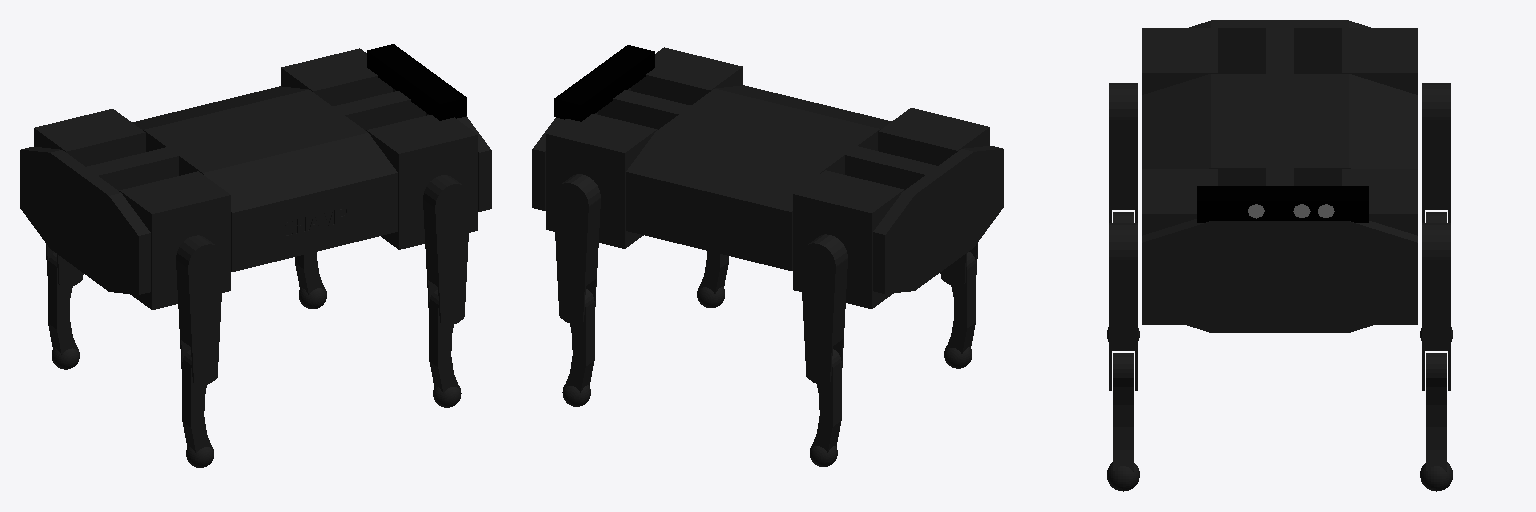
--- Facts derived from the render (not from the file) ---
Views: 3 orthographic renders of the robot side by side, from view 1: azimuth 30°, elevation 25°; view 2: azimuth 150°, elevation 25°; view 3: azimuth 270°, elevation 25°.
Robot: champ — 30 links, 29 joints (12 revolute, 17 fixed); root link base_link; default pose: every joint at zero.
Visible links, largest first — view 1: base_link, rh_hip_link, rf_hip_link, rh_upper_leg_link, rf_upper_leg_link, lh_hip_link, lf_hip_link, camera_link, rf_lower_leg_link, rh_lower_leg_link, lh_lower_leg_link, lf_lower_leg_link (+1 smaller); view 2: base_link, lh_hip_link, lf_hip_link, lh_upper_leg_link, lf_upper_leg_link, rh_hip_link, rf_hip_link, camera_link, lf_lower_leg_link, lh_lower_leg_link, rh_lower_leg_link, rf_lower_leg_link (+1 smaller); view 3: base_link, camera_link, lh_hip_link, rh_hip_link, lf_upper_leg_link, rf_upper_leg_link, rf_hip_link, lh_upper_leg_link, rh_upper_leg_link, lf_hip_link, lf_lower_leg_link, rf_lower_leg_link.
Link boxes in pixels (x1,y1,x2,y2): base_link: (20, 86, 491, 294); rh_hip_link: (119, 171, 230, 309); rf_hip_link: (366, 115, 477, 249); rh_upper_leg_link: (176, 235, 222, 385); rf_upper_leg_link: (423, 175, 469, 325); lh_hip_link: (34, 109, 145, 166); lf_hip_link: (281, 48, 392, 105); camera_link: (367, 44, 466, 120); rf_lower_leg_link: (429, 290, 461, 407); rh_lower_leg_link: (182, 350, 213, 467); lh_lower_leg_link: (48, 252, 79, 369); lf_lower_leg_link: (295, 252, 326, 308); base_link: (532, 85, 1003, 293); lh_hip_link: (793, 170, 904, 308); lf_hip_link: (546, 114, 657, 248); lh_upper_leg_link: (801, 234, 847, 384); lf_upper_leg_link: (554, 174, 600, 324); rh_hip_link: (878, 108, 989, 165); rf_hip_link: (631, 47, 742, 104); camera_link: (554, 45, 654, 121); lf_lower_leg_link: (562, 289, 594, 406); lh_lower_leg_link: (810, 349, 841, 466); rh_lower_leg_link: (944, 252, 975, 368); rf_lower_leg_link: (697, 251, 728, 307); base_link: (1142, 20, 1417, 332); camera_link: (1197, 186, 1368, 222); lh_hip_link: (1342, 28, 1417, 94); rh_hip_link: (1142, 28, 1217, 94); lf_upper_leg_link: (1422, 223, 1450, 390); rf_upper_leg_link: (1109, 223, 1137, 390); rf_hip_link: (1142, 169, 1217, 324); lh_upper_leg_link: (1422, 83, 1450, 222); rh_upper_leg_link: (1109, 83, 1137, 222); lf_hip_link: (1342, 169, 1417, 324); lf_lower_leg_link: (1420, 353, 1452, 491); rf_lower_leg_link: (1107, 353, 1139, 491).
Size in the robot's own frame: 0.5 by 0.365 by 0.3696 metres.
Meshes: 8 distinct files referenced, 14 mesh visuals loaded (4 binary STL, 1 Collada DAE); not drawn: 3 (reference not matched to a file when rendering).

URDF robot description (champ):
<?xml version="1.0" encoding="utf-8"?>
<!-- =================================================================================== -->
<!-- |    This document was autogenerated by xacro from champ.urdf.xacro               | -->
<!-- |    EDITING THIS FILE BY HAND IS NOT RECOMMENDED                                 | -->
<!-- =================================================================================== -->
<robot name="champ">
  <material name="black">
    <color rgba="0.15 0.15 0.15 1.0"/>
  </material>
  <link name="base_link">
    <collision>
      <origin rpy="0 0 0" xyz="0 0 0"/>
      <geometry>
        <mesh filename="package://champ_description/meshes/base.stl" scale="0.001 0.001 0.001"/>
      </geometry>
    </collision>
    <visual>
      <origin rpy="0 0 0" xyz="0 0 0"/>
      <geometry>
        <mesh filename="package://champ_description/meshes/base.stl" scale="0.001 0.001 0.001"/>
      </geometry>
      <material name="black"/>
    </visual>
  </link>
  <link name="base_inertia">
    <inertial>
      <origin xyz="0 0 0"/>
      <mass value="2.0"/>
      <inertia ixx="0.0168333333333" ixy="0.0" ixz="0.0" iyy="0.0444833333333" iyz="0.0" izz="0.0556833333333"/>
    </inertial>
  </link>
  <joint name="base_link_to_base_inertia" type="fixed">
    <parent link="base_link"/>
    <child link="base_inertia"/>
    <origin rpy="0 0 0" xyz="0 0 0"/>
  </joint>
  <gazebo reference="base_link">
    <material>Gazebo/FlatBlack</material>
  </gazebo>
  <!-- 
    <xacro:hokuyo_utm30lx 
        name="hokuyo" 
        parent="base_link" 
        ros_topic="scan" 
        update_rate="30" 
        ray_count="1040" 
        min_angle="130" 
        max_angle="-130" >
        <origin xyz="0.0 0.0 ${base_z_length / 2 + 0.04}" rpy="0 0 0"/>
    </xacro:hokuyo_utm30lx> -->
  <gazebo reference="hokuyo_frame">
    <material>Gazebo/FlatBlack</material>
  </gazebo>
  <joint name="camera_joint" type="fixed">
    <origin rpy="0 0 0" xyz="0.25 0.0 0.075"/>
    <parent link="base_link"/>
    <child link="camera_link"/>
  </joint>
  <link name="camera_link">
    <inertial>
      <mass value="0.200"/>
      <origin rpy="0 0 0" xyz="0 0 0"/>
      <inertia ixx="5.8083e-4" ixy="0" ixz="0" iyy="3.0833e-5" iyz="0" izz="5.9083e-4"/>
    </inertial>
    <visual>
      <origin rpy="0 0 0" xyz="0 0 0"/>
      <geometry>
        <mesh filename="package://hector_sensors_description/meshes/asus_camera/asus_camera_simple.dae"/>
      </geometry>
    </visual>
    <!--        
       <collision>
          <origin xyz="0 0 0" rpy="0 0 0" />
          <geometry>
            <box size="0.035 0.185 0.025"/>
          </geometry>
        </collision>
        -->
    <collision>
      <origin rpy="0 0 0" xyz="0 0 0"/>
      <geometry>
        <mesh filename="package://hector_sensors_description/meshes/asus_camera/asus_camera_simple.dae"/>
      </geometry>
    </collision>
  </link>
  <joint name="camera_depth_joint" type="fixed">
    <origin rpy="0 0 0" xyz="0.0 0.049 0.0"/>
    <parent link="camera_link"/>
    <child link="camera_depth_frame"/>
  </joint>
  <link name="camera_depth_frame"/>
  <joint name="camera_depth_optical_joint" type="fixed">
    <origin rpy="-1.57079632679 0.0 -1.57079632679" xyz="0 0 0"/>
    <parent link="camera_depth_frame"/>
    <child link="camera_depth_optical_frame"/>
  </joint>
  <link name="camera_depth_optical_frame"/>
  <joint name="camera_rgb_joint" type="fixed">
    <origin rpy="0 0 0" xyz="0.0 0.022 0.0"/>
    <parent link="camera_link"/>
    <child link="camera_rgb_frame"/>
  </joint>
  <link name="camera_rgb_frame"/>
  <joint name="camera_rgb_optical_joint" type="fixed">
    <origin rpy="-1.57079632679 0.0 -1.57079632679" xyz="0 0 0"/>
    <parent link="camera_rgb_frame"/>
    <child link="camera_rgb_optical_frame"/>
  </joint>
  <link name="camera_rgb_optical_frame"/>
  <!-- ASUS Xtion PRO camera for simulation -->
  <gazebo reference="camera_depth_frame">
    <sensor name="camera" type="depth">
      <update_rate>20</update_rate>
      <camera>
        <horizontal_fov>1.09606677025</horizontal_fov>
        <image>
          <format>R8G8B8</format>
          <width>640</width>
          <height>480</height>
        </image>
        <clip>
          <near>0.5</near>
          <far>9</far>
        </clip>
      </camera>
      <plugin filename="libgazebo_ros_openni_kinect.so" name="camera_camera_controller">
        <imageTopicName>camera/rgb/image_raw</imageTopicName>
        <cameraInfoTopicName>camera/rgb/camera_info</cameraInfoTopicName>
        <depthImageTopicName>camera/depth/image_raw</depthImageTopicName>
        <depthImageCameraInfoTopicName>camera/depth/camera_info</depthImageCameraInfoTopicName>
        <pointCloudTopicName>camera/depth/points</pointCloudTopicName>
        <frameName>camera_depth_optical_frame</frameName>
      </plugin>
    </sensor>
  </gazebo>
  <gazebo>
    <plugin filename="libhector_gazebo_ros_imu.so" name="imu_controller">
      <updateRate>50.0</updateRate>
      <bodyName>imu_link</bodyName>
      <topicName>imu/data</topicName>
      <accelDrift>0.005 0.005 0.005</accelDrift>
      <accelGaussianNoise>0.005 0.005 0.005</accelGaussianNoise>
      <rateDrift>0.005 0.005 0.005 </rateDrift>
      <rateGaussianNoise>0.005 0.005 0.005 </rateGaussianNoise>
      <headingDrift>0.005</headingDrift>
      <headingGaussianNoise>0.005</headingGaussianNoise>
    </plugin>
  </gazebo>
  <link name="imu_link">
    <inertial>
      <mass value="0.001"/>
      <origin rpy="0 0 0" xyz="0 0 0"/>
      <inertia ixx="1e-09" ixy="0.0" ixz="0.0" iyy="1e-09" iyz="0.0" izz="1e-09"/>
    </inertial>
  </link>
  <joint name="imu_joint" type="fixed">
    <parent link="base_link"/>
    <child link="imu_link"/>
  </joint>
  <!-- <xacro:include filename="$(find champ_arm_description)/urdf/champ_arm.urdf.xacro" />
    <xacro:champ_arm parent="base_link">
        <origin xyz="0.07 0.0 ${base_z_length / 2}" rpy="0 0 0"/>
    </xacro:champ_arm> -->
   --&gt;
    
  <joint name="velodyne_base_mount_joint" type="fixed">
    <origin rpy="0 0 0" xyz="0 0 0.065"/>
    <parent link="base_link"/>
    <child link="velodyne_base_link"/>
  </joint>
  <link name="velodyne_base_link">
    <inertial>
      <mass value="0.83"/>
      <origin xyz="0 0 0.03585"/>
      <inertia ixx="0.000908059425" ixy="0" ixz="0" iyy="0.000908059425" iyz="0" izz="0.0011049624"/>
    </inertial>
    <visual>
      <geometry>
        <mesh filename="package://velodyne_description/meshes/VLP16_base_1.dae"/>
      </geometry>
    </visual>
    <visual>
      <geometry>
        <mesh filename="package://velodyne_description/meshes/VLP16_base_2.dae"/>
      </geometry>
    </visual>
    <collision>
      <origin rpy="0 0 0" xyz="0 0 0.03585"/>
      <geometry>
        <cylinder length="0.0717" radius="0.0516"/>
      </geometry>
    </collision>
  </link>
  <joint name="velodyne_base_scan_joint" type="fixed">
    <origin rpy="0 0 0" xyz="0 0 0.0377"/>
    <parent link="velodyne_base_link"/>
    <child link="velodyne"/>
  </joint>
  <link name="velodyne">
    <inertial>
      <mass value="0.01"/>
      <origin xyz="0 0 0"/>
      <inertia ixx="1e-7" ixy="0" ixz="0" iyy="1e-7" iyz="0" izz="1e-7"/>
    </inertial>
    <visual>
      <origin xyz="0 0 -0.0377"/>
      <geometry>
        <mesh filename="package://velodyne_description/meshes/VLP16_scan.dae"/>
      </geometry>
    </visual>
  </link>
  <!-- Gazebo requires the velodyne_gazebo_plugins package -->
  <gazebo reference="velodyne">
    <sensor name="velodyne-VLP16" type="ray">
      <pose>0 0 0 0 0 0</pose>
      <visualize>false</visualize>
      <update_rate>10</update_rate>
      <ray>
        <scan>
          <horizontal>
            <samples>1024</samples>
            <resolution>1</resolution>
            <min_angle>-3.14159265359</min_angle>
            <max_angle>3.14159265359</max_angle>
          </horizontal>
          <vertical>
            <samples>16</samples>
            <resolution>1</resolution>
            <min_angle>-0.261799387799</min_angle>
            <max_angle> 0.261799387799</max_angle>
          </vertical>
        </scan>
        <range>
          <min>0.3</min>
          <max>101</max>
          <resolution>0.001</resolution>
        </range>
        <noise>
          <type>gaussian</type>
          <mean>0.0</mean>
          <stddev>0.0</stddev>
        </noise>
      </ray>
      <plugin filename="libgazebo_ros_velodyne_laser.so" name="gazebo_ros_laser_controller">
        <topicName>velodyne_points</topicName>
        <frameName>velodyne</frameName>
        <min_range>0.9</min_range>
        <max_range>100</max_range>
        <gaussianNoise>0.008</gaussianNoise>
      </plugin>
    </sensor>
  </gazebo>
  <link name="lf_hip_debug_link"/>
  <link name="lf_hip_link">
    <inertial>
      <mass value="0.25"/>
      <inertia ixx="0.000485416666667" ixy="0.0" ixz="0.0" iyy="0.000613416666667" iyz="0.0" izz="0.000394666666667"/>
    </inertial>
    <collision>
      <origin rpy="0 0 0" xyz="0 0 0"/>
      <geometry>
        <mesh filename="package://champ_description/meshes/hip.stl" scale="0.001 0.001 0.001"/>
      </geometry>
    </collision>
    <visual>
      <origin rpy="0 0 0" xyz="0 0 0"/>
      <geometry>
        <mesh filename="package://champ_description/meshes/hip.stl" scale="0.001 0.001 0.001"/>
      </geometry>
      <material name="black"/>
    </visual>
  </link>
  <gazebo reference="lf_hip_link">
    <material>Gazebo/FlatBlack</material>
  </gazebo>
  <link name="lf_upper_leg_link">
    <inertial>
      <origin xyz="0 0 -0.0705"/>
      <mass value="0.125"/>
      <inertia ixx="0.0003873984375" ixy="0.0" ixz="0.0" iyy="0.000404065104167" iyz="0.0" izz="3.54166666667e-05"/>
    </inertial>
    <collision>
      <origin rpy="0 0 0" xyz="0 0 0"/>
      <geometry>
        <mesh filename="package://champ_description/meshes/upper_leg.stl" scale="0.001 0.001 0.001"/>
      </geometry>
    </collision>
    <visual>
      <origin rpy="0 0 0" xyz="0 0 0"/>
      <geometry>
        <mesh filename="package://champ_description/meshes/upper_leg.stl" scale="0.001 0.001 0.001"/>
      </geometry>
      <material name="black"/>
    </visual>
  </link>
  <gazebo reference="lf_upper_leg_link">
    <material>Gazebo/FlatBlack</material>
  </gazebo>
  <link name="lf_lower_leg_link">
    <inertial>
      <origin xyz="0 0 -0.063"/>
      <mass value="0.125"/>
      <inertia ixx="0.000258541666667" ixy="0.0" ixz="0.0" iyy="0.00026934375" iyz="0.0" izz="2.08854166667e-05"/>
    </inertial>
    <collision>
      <origin rpy="0 0 0" xyz="0 0 0"/>
      <geometry>
        <mesh filename="package://champ_description/meshes/lower_leg.stl" scale="0.001 0.001 0.001"/>
      </geometry>
    </collision>
    <visual>
      <origin rpy="0 0 0" xyz="0 0 0"/>
      <geometry>
        <mesh filename="package://champ_description/meshes/lower_leg.stl" scale="0.001 0.001 0.001"/>
      </geometry>
      <material name="black"/>
    </visual>
  </link>
  <gazebo reference="lf_lower_leg_link">
    <kp>1000000.0</kp>
    <kd>1.0</kd>
    <mu1>0.8</mu1>
    <mu2>0.8</mu2>
    <maxVel>0.0</maxVel>
    <minDepth>0.001</minDepth>
    <material>Gazebo/FlatBlack</material>
  </gazebo>
  <link name="lf_foot_link"/>
  <joint name="lf_debug_joint" type="fixed">
    <parent link="base_link"/>
    <child link="lf_hip_debug_link"/>
    <origin rpy="0 0 0" xyz="0.175 0.105 0"/>
  </joint>
  <joint name="lf_hip_joint" type="revolute">
    <axis xyz="1 0 0"/>
    <limit effort="25" lower="-3.14159265359" upper="3.14159265359" velocity="1.5"/>
    <parent link="base_link"/>
    <child link="lf_hip_link"/>
    <origin rpy="0 0 0" xyz="0.175 0.105 0"/>
  </joint>
  <joint name="lf_upper_leg_joint" type="revolute">
    <axis xyz="0 1 0"/>
    <limit effort="25" lower="-3.14159265359" upper="3.14159265359" velocity="1.5"/>
    <parent link="lf_hip_link"/>
    <child link="lf_upper_leg_link"/>
    <origin rpy="0 0 0" xyz="0 0.06 0"/>
  </joint>
  <joint name="lf_lower_leg_joint" type="revolute">
    <axis xyz="0 1 0"/>
    <limit effort="25" lower="-3.14159265359" upper="3.14159265359" velocity="1.5"/>
    <parent link="lf_upper_leg_link"/>
    <child link="lf_lower_leg_link"/>
    <origin rpy="0 0 0" xyz="0 0 -0.141"/>
  </joint>
  <joint name="lf_foot_joint" type="fixed">
    <parent link="lf_lower_leg_link"/>
    <child link="lf_foot_link"/>
    <!-- <origin xyz="0.00325 0 -${lower_leg_to_foot_distance}" rpy="0 0 0" /> -->
    <origin rpy="0 0 0" xyz="0 0 -0.141"/>
  </joint>
  <transmission name="lf_hip_joint_trans">
    <type>transmission_interface/SimpleTransmission</type>
    <joint name="lf_hip_joint">
      <hardwareInterface>hardware_interface/EffortJointInterface</hardwareInterface>
    </joint>
    <actuator name="lf_hip_joint_motor">
      <hardwareInterface>hardware_interface/EffortJointInterface</hardwareInterface>
      <mechanicalReduction>1</mechanicalReduction>
    </actuator>
  </transmission>
  <transmission name="lf_upper_leg_joint_trans">
    <type>transmission_interface/SimpleTransmission</type>
    <joint name="lf_upper_leg_joint">
      <hardwareInterface>hardware_interface/EffortJointInterface</hardwareInterface>
    </joint>
    <actuator name="lf_upper_leg_joint_motor">
      <hardwareInterface>hardware_interface/EffortJointInterface</hardwareInterface>
      <mechanicalReduction>1</mechanicalReduction>
    </actuator>
  </transmission>
  <transmission name="lf_lower_leg_joint_trans">
    <type>transmission_interface/SimpleTransmission</type>
    <joint name="lf_lower_leg_joint">
      <hardwareInterface>hardware_interface/EffortJointInterface</hardwareInterface>
    </joint>
    <actuator name="lf_lower_joint_motor">
      <hardwareInterface>hardware_interface/EffortJointInterface</hardwareInterface>
      <mechanicalReduction>1</mechanicalReduction>
    </actuator>
  </transmission>
  <link name="lh_hip_debug_link"/>
  <link name="lh_hip_link">
    <inertial>
      <mass value="0.25"/>
      <inertia ixx="0.000485416666667" ixy="0.0" ixz="0.0" iyy="0.000613416666667" iyz="0.0" izz="0.000394666666667"/>
    </inertial>
    <collision>
      <origin rpy="0 0 0" xyz="0 0 0"/>
      <geometry>
        <mesh filename="package://champ_description/meshes/hip.stl" scale="0.001 0.001 0.001"/>
      </geometry>
    </collision>
    <visual>
      <origin rpy="0 0 0" xyz="0 0 0"/>
      <geometry>
        <mesh filename="package://champ_description/meshes/hip.stl" scale="0.001 0.001 0.001"/>
      </geometry>
      <material name="black"/>
    </visual>
  </link>
  <gazebo reference="lh_hip_link">
    <material>Gazebo/FlatBlack</material>
  </gazebo>
  <link name="lh_upper_leg_link">
    <inertial>
      <origin xyz="0 0 -0.0705"/>
      <mass value="0.125"/>
      <inertia ixx="0.0003873984375" ixy="0.0" ixz="0.0" iyy="0.000404065104167" iyz="0.0" izz="3.54166666667e-05"/>
    </inertial>
    <collision>
      <origin rpy="0 0 0" xyz="0 0 0"/>
      <geometry>
        <mesh filename="package://champ_description/meshes/upper_leg.stl" scale="0.001 0.001 0.001"/>
      </geometry>
    </collision>
    <visual>
      <origin rpy="0 0 0" xyz="0 0 0"/>
      <geometry>
        <mesh filename="package://champ_description/meshes/upper_leg.stl" scale="0.001 0.001 0.001"/>
      </geometry>
      <material name="black"/>
    </visual>
  </link>
  <gazebo reference="lh_upper_leg_link">
    <material>Gazebo/FlatBlack</material>
  </gazebo>
  <link name="lh_lower_leg_link">
    <inertial>
      <origin xyz="0 0 -0.063"/>
      <mass value="0.125"/>
      <inertia ixx="0.000258541666667" ixy="0.0" ixz="0.0" iyy="0.00026934375" iyz="0.0" izz="2.08854166667e-05"/>
    </inertial>
    <collision>
      <origin rpy="0 0 0" xyz="0 0 0"/>
      <geometry>
        <mesh filename="package://champ_description/meshes/lower_leg.stl" scale="0.001 0.001 0.001"/>
      </geometry>
    </collision>
    <visual>
      <origin rpy="0 0 0" xyz="0 0 0"/>
      <geometry>
        <mesh filename="package://champ_description/meshes/lower_leg.stl" scale="0.001 0.001 0.001"/>
      </geometry>
      <material name="black"/>
    </visual>
  </link>
  <gazebo reference="lh_lower_leg_link">
    <kp>1000000.0</kp>
    <kd>1.0</kd>
    <mu1>0.8</mu1>
    <mu2>0.8</mu2>
    <maxVel>0.0</maxVel>
    <minDepth>0.001</minDepth>
    <material>Gazebo/FlatBlack</material>
  </gazebo>
  <link name="lh_foot_link"/>
  <joint name="lh_debug_joint" type="fixed">
    <parent link="base_link"/>
    <child link="lh_hip_debug_link"/>
    <origin rpy="0 0 0" xyz="-0.175 0.105 0"/>
  </joint>
  <joint name="lh_hip_joint" type="revolute">
    <axis xyz="1 0 0"/>
    <limit effort="25" lower="-3.14159265359" upper="3.14159265359" velocity="1.5"/>
    <parent link="base_link"/>
    <child link="lh_hip_link"/>
    <origin rpy="0 0 0" xyz="-0.175 0.105 0"/>
  </joint>
  <joint name="lh_upper_leg_joint" type="revolute">
    <axis xyz="0 1 0"/>
    <limit effort="25" lower="-3.14159265359" upper="3.14159265359" velocity="1.5"/>
    <parent link="lh_hip_link"/>
    <child link="lh_upper_leg_link"/>
    <origin rpy="0 0 0" xyz="0 0.06 0"/>
  </joint>
  <joint name="lh_lower_leg_joint" type="revolute">
    <axis xyz="0 1 0"/>
    <limit effort="25" lower="-3.14159265359" upper="3.14159265359" velocity="1.5"/>
    <parent link="lh_upper_leg_link"/>
    <child link="lh_lower_leg_link"/>
    <origin rpy="0 0 0" xyz="0 0 -0.141"/>
  </joint>
  <joint name="lh_foot_joint" type="fixed">
    <parent link="lh_lower_leg_link"/>
    <child link="lh_foot_link"/>
    <!-- <origin xyz="0.00325 0 -${lower_leg_to_foot_distance}" rpy="0 0 0" /> -->
    <origin rpy="0 0 0" xyz="0 0 -0.141"/>
  </joint>
  <transmission name="lh_hip_joint_trans">
    <type>transmission_interface/SimpleTransmission</type>
    <joint name="lh_hip_joint">
      <hardwareInterface>hardware_interface/EffortJointInterface</hardwareInterface>
    </joint>
    <actuator name="lh_hip_joint_motor">
      <hardwareInterface>hardware_interface/EffortJointInterface</hardwareInterface>
      <mechanicalReduction>1</mechanicalReduction>
    </actuator>
  </transmission>
  <transmission name="lh_upper_leg_joint_trans">
    <type>transmission_interface/SimpleTransmission</type>
    <joint name="lh_upper_leg_joint">
      <hardwareInterface>hardware_interface/EffortJointInterface</hardwareInterface>
    </joint>
    <actuator name="lh_upper_leg_joint_motor">
      <hardwareInterface>hardware_interface/EffortJointInterface</hardwareInterface>
      <mechanicalReduction>1</mechanicalReduction>
    </actuator>
  </transmission>
  <transmission name="lh_lower_leg_joint_trans">
    <type>transmission_interface/SimpleTransmission</type>
    <joint name="lh_lower_leg_joint">
      <hardwareInterface>hardware_interface/EffortJointInterface</hardwareInterface>
    </joint>
    <actuator name="lh_lower_joint_motor">
      <hardwareInterface>hardware_interface/EffortJointInterface</hardwareInterface>
      <mechanicalReduction>1</mechanicalReduction>
    </actuator>
  </transmission>
  <link name="rf_hip_debug_link"/>
  <link name="rf_hip_link">
    <inertial>
      <mass value="0.25"/>
      <inertia ixx="0.000485416666667" ixy="0.0" ixz="0.0" iyy="0.000613416666667" iyz="0.0" izz="0.000394666666667"/>
    </inertial>
    <collision>
      <origin rpy="0 0 0" xyz="0 0 0"/>
      <geometry>
        <mesh filename="package://champ_description/meshes/hip.stl" scale="0.001 0.001 0.001"/>
      </geometry>
    </collision>
    <visual>
      <origin rpy="0 0 0" xyz="0 0 0"/>
      <geometry>
        <mesh filename="package://champ_description/meshes/hip.stl" scale="0.001 0.001 0.001"/>
      </geometry>
      <material name="black"/>
    </visual>
  </link>
  <gazebo reference="rf_hip_link">
    <material>Gazebo/FlatBlack</material>
  </gazebo>
  <link name="rf_upper_leg_link">
    <inertial>
      <origin xyz="0 0 -0.0705"/>
      <mass value="0.125"/>
      <inertia ixx="0.0003873984375" ixy="0.0" ixz="0.0" iyy="0.000404065104167" iyz="0.0" izz="3.54166666667e-05"/>
    </inertial>
    <collision>
      <origin rpy="0 0 0" xyz="0 0 0"/>
      <geometry>
        <mesh filename="package://champ_description/meshes/upper_leg.stl" scale="0.001 0.001 0.001"/>
      </geometry>
    </collision>
    <visual>
      <origin rpy="0 0 0" xyz="0 0 0"/>
      <geometry>
        <mesh filename="package://champ_description/meshes/upper_leg.stl" scale="0.001 0.001 0.001"/>
      </geometry>
      <material name="black"/>
    </visual>
  </link>
  <gazebo reference="rf_upper_leg_link">
    <material>Gazebo/FlatBlack</material>
  </gazebo>
  <link name="rf_lower_leg_link">
    <inertial>
      <origin xyz="0 0 -0.063"/>
      <mass value="0.125"/>
      <inertia ixx="0.000258541666667" ixy="0.0" ixz="0.0" iyy="0.00026934375" iyz="0.0" izz="2.08854166667e-05"/>
    </inertial>
    <collision>
      <origin rpy="0 0 0" xyz="0 0 0"/>
      <geometry>
        <mesh filename="package://champ_description/meshes/lower_leg.stl" scale="0.001 0.001 0.001"/>
      </geometry>
    </collision>
    <visual>
      <origin rpy="0 0 0" xyz="0 0 0"/>
      <geometry>
        <mesh filename="package://champ_description/meshes/lower_leg.stl" scale="0.001 0.001 0.001"/>
      </geometry>
      <material name="black"/>
    </visual>
  </link>
  <gazebo reference="rf_lower_leg_link">
    <kp>1000000.0</kp>
    <kd>1.0</kd>
    <mu1>0.8</mu1>
    <mu2>0.8</mu2>
    <maxVel>0.0</maxVel>
    <minDepth>0.001</minDepth>
    <material>Gazebo/FlatBlack</material>
  </gazebo>
  <link name="rf_foot_link"/>
  <joint name="rf_debug_joint" type="fixed">
    <parent link="base_link"/>
    <child link="rf_hip_debug_link"/>
    <origin rpy="0 0 0" xyz="0.175 -0.105 0"/>
  </joint>
  <joint name="rf_hip_joint" type="revolute">
    <axis xyz="1 0 0"/>
    <limit effort="25" lower="-3.14159265359" upper="3.14159265359" velocity="1.5"/>
    <parent link="base_link"/>
    <child link="rf_hip_link"/>
    <origin rpy="0 0 0" xyz="0.175 -0.105 0"/>
  </joint>
  <joint name="rf_upper_leg_joint" type="revolute">
    <axis xyz="0 1 0"/>
    <limit effort="25" lower="-3.14159265359" upper="3.14159265359" velocity="1.5"/>
    <parent link="rf_hip_link"/>
    <child link="rf_upper_leg_link"/>
    <origin rpy="0 0 0" xyz="0 -0.06 0"/>
  </joint>
  <joint name="rf_lower_leg_joint" type="revolute">
    <axis xyz="0 1 0"/>
    <limit effort="25" lower="-3.14159265359" upper="3.14159265359" velocity="1.5"/>
    <parent link="rf_upper_leg_link"/>
    <child link="rf_lower_leg_link"/>
    <origin rpy="0 0 0" xyz="0 0 -0.141"/>
  </joint>
  <joint name="rf_foot_joint" type="fixed">
    <parent link="rf_lower_leg_link"/>
    <child link="rf_foot_link"/>
    <!-- <origin xyz="0.00325 0 -${lower_leg_to_foot_distance}" rpy="0 0 0" /> -->
    <origin rpy="0 0 0" xyz="0 0 -0.141"/>
  </joint>
  <transmission name="rf_hip_joint_trans">
    <type>transmission_interface/SimpleTransmission</type>
    <joint name="rf_hip_joint">
      <hardwareInterface>hardware_interface/EffortJointInterface</hardwareInterface>
    </joint>
    <actuator name="rf_hip_joint_motor">
      <hardwareInterface>hardware_interface/EffortJointInterface</hardwareInterface>
      <mechanicalReduction>1</mechanicalReduction>
    </actuator>
  </transmission>
  <transmission name="rf_upper_leg_joint_trans">
    <type>transmission_interface/SimpleTransmission</type>
    <joint name="rf_upper_leg_joint">
      <hardwareInterface>hardware_interface/EffortJointInterface</hardwareInterface>
    </joint>
    <actuator name="rf_upper_leg_joint_motor">
      <hardwareInterface>hardware_interface/EffortJointInterface</hardwareInterface>
      <mechanicalReduction>1</mechanicalReduction>
    </actuator>
  </transmission>
  <transmission name="rf_lower_leg_joint_trans">
    <type>transmission_interface/SimpleTransmission</type>
    <joint name="rf_lower_leg_joint">
      <hardwareInterface>hardware_interface/EffortJointInterface</hardwareInterface>
    </joint>
    <actuator name="rf_lower_joint_motor">
      <hardwareInterface>hardware_interface/EffortJointInterface</hardwareInterface>
      <mechanicalReduction>1</mechanicalReduction>
    </actuator>
  </transmission>
  <link name="rh_hip_debug_link"/>
  <link name="rh_hip_link">
    <inertial>
      <mass value="0.25"/>
      <inertia ixx="0.000485416666667" ixy="0.0" ixz="0.0" iyy="0.000613416666667" iyz="0.0" izz="0.000394666666667"/>
    </inertial>
    <collision>
      <origin rpy="0 0 0" xyz="0 0 0"/>
      <geometry>
        <mesh filename="package://champ_description/meshes/hip.stl" scale="0.001 0.001 0.001"/>
      </geometry>
    </collision>
    <visual>
      <origin rpy="0 0 0" xyz="0 0 0"/>
      <geometry>
        <mesh filename="package://champ_description/meshes/hip.stl" scale="0.001 0.001 0.001"/>
      </geometry>
      <material name="black"/>
    </visual>
  </link>
  <gazebo reference="rh_hip_link">
    <material>Gazebo/FlatBlack</material>
  </gazebo>
  <link name="rh_upper_leg_link">
    <inertial>
      <origin xyz="0 0 -0.0705"/>
      <mass value="0.125"/>
      <inertia ixx="0.0003873984375" ixy="0.0" ixz="0.0" iyy="0.000404065104167" iyz="0.0" izz="3.54166666667e-05"/>
    </inertial>
    <collision>
      <origin rpy="0 0 0" xyz="0 0 0"/>
      <geometry>
        <mesh filename="package://champ_description/meshes/upper_leg.stl" scale="0.001 0.001 0.001"/>
      </geometry>
    </collision>
    <visual>
      <origin rpy="0 0 0" xyz="0 0 0"/>
      <geometry>
        <mesh filename="package://champ_description/meshes/upper_leg.stl" scale="0.001 0.001 0.001"/>
      </geometry>
      <material name="black"/>
    </visual>
  </link>
  <gazebo reference="rh_upper_leg_link">
    <material>Gazebo/FlatBlack</material>
  </gazebo>
  <link name="rh_lower_leg_link">
    <inertial>
      <origin xyz="0 0 -0.063"/>
      <mass value="0.125"/>
      <inertia ixx="0.000258541666667" ixy="0.0" ixz="0.0" iyy="0.00026934375" iyz="0.0" izz="2.08854166667e-05"/>
    </inertial>
    <collision>
      <origin rpy="0 0 0" xyz="0 0 0"/>
      <geometry>
        <mesh filename="package://champ_description/meshes/lower_leg.stl" scale="0.001 0.001 0.001"/>
      </geometry>
    </collision>
    <visual>
      <origin rpy="0 0 0" xyz="0 0 0"/>
      <geometry>
        <mesh filename="package://champ_description/meshes/lower_leg.stl" scale="0.001 0.001 0.001"/>
      </geometry>
      <material name="black"/>
    </visual>
  </link>
  <gazebo reference="rh_lower_leg_link">
    <kp>1000000.0</kp>
    <kd>1.0</kd>
    <mu1>0.8</mu1>
    <mu2>0.8</mu2>
    <maxVel>0.0</maxVel>
    <minDepth>0.001</minDepth>
    <material>Gazebo/FlatBlack</material>
  </gazebo>
  <link name="rh_foot_link"/>
  <joint name="rh_debug_joint" type="fixed">
    <parent link="base_link"/>
    <child link="rh_hip_debug_link"/>
    <origin rpy="0 0 0" xyz="-0.175 -0.105 0"/>
  </joint>
  <joint name="rh_hip_joint" type="revolute">
    <axis xyz="1 0 0"/>
    <limit effort="25" lower="-3.14159265359" upper="3.14159265359" velocity="1.5"/>
    <parent link="base_link"/>
    <child link="rh_hip_link"/>
    <origin rpy="0 0 0" xyz="-0.175 -0.105 0"/>
  </joint>
  <joint name="rh_upper_leg_joint" type="revolute">
    <axis xyz="0 1 0"/>
    <limit effort="25" lower="-3.14159265359" upper="3.14159265359" velocity="1.5"/>
    <parent link="rh_hip_link"/>
    <child link="rh_upper_leg_link"/>
    <origin rpy="0 0 0" xyz="0 -0.06 0"/>
  </joint>
  <joint name="rh_lower_leg_joint" type="revolute">
    <axis xyz="0 1 0"/>
    <limit effort="25" lower="-3.14159265359" upper="3.14159265359" velocity="1.5"/>
    <parent link="rh_upper_leg_link"/>
    <child link="rh_lower_leg_link"/>
    <origin rpy="0 0 0" xyz="0 0 -0.141"/>
  </joint>
  <joint name="rh_foot_joint" type="fixed">
    <parent link="rh_lower_leg_link"/>
    <child link="rh_foot_link"/>
    <!-- <origin xyz="0.00325 0 -${lower_leg_to_foot_distance}" rpy="0 0 0" /> -->
    <origin rpy="0 0 0" xyz="0 0 -0.141"/>
  </joint>
  <transmission name="rh_hip_joint_trans">
    <type>transmission_interface/SimpleTransmission</type>
    <joint name="rh_hip_joint">
      <hardwareInterface>hardware_interface/EffortJointInterface</hardwareInterface>
    </joint>
    <actuator name="rh_hip_joint_motor">
      <hardwareInterface>hardware_interface/EffortJointInterface</hardwareInterface>
      <mechanicalReduction>1</mechanicalReduction>
    </actuator>
  </transmission>
  <transmission name="rh_upper_leg_joint_trans">
    <type>transmission_interface/SimpleTransmission</type>
    <joint name="rh_upper_leg_joint">
      <hardwareInterface>hardware_interface/EffortJointInterface</hardwareInterface>
    </joint>
    <actuator name="rh_upper_leg_joint_motor">
      <hardwareInterface>hardware_interface/EffortJointInterface</hardwareInterface>
      <mechanicalReduction>1</mechanicalReduction>
    </actuator>
  </transmission>
  <transmission name="rh_lower_leg_joint_trans">
    <type>transmission_interface/SimpleTransmission</type>
    <joint name="rh_lower_leg_joint">
      <hardwareInterface>hardware_interface/EffortJointInterface</hardwareInterface>
    </joint>
    <actuator name="rh_lower_joint_motor">
      <hardwareInterface>hardware_interface/EffortJointInterface</hardwareInterface>
      <mechanicalReduction>1</mechanicalReduction>
    </actuator>
  </transmission>
  <gazebo>
    <plugin filename="libgazebo_ros_p3d.so" name="p3d_base_controller">
      <alwaysOn>true</alwaysOn>
      <updateRate>10.0</updateRate>
      <bodyName>base_link</bodyName>
      <topicName>odom/ground_truth</topicName>
      <gaussianNoise>0.01</gaussianNoise>
      <frameName>world</frameName>
      <xyzOffsets>0 0 0</xyzOffsets>
      <rpyOffsets>0 0 0</rpyOffsets>
    </plugin>
  </gazebo>
  <gazebo>
    <plugin filename="libgazebo_ros_control.so" name="gazebo_ros_control">
      <legacyModeNS>true</legacyModeNS>
    </plugin>
  </gazebo>
</robot>
